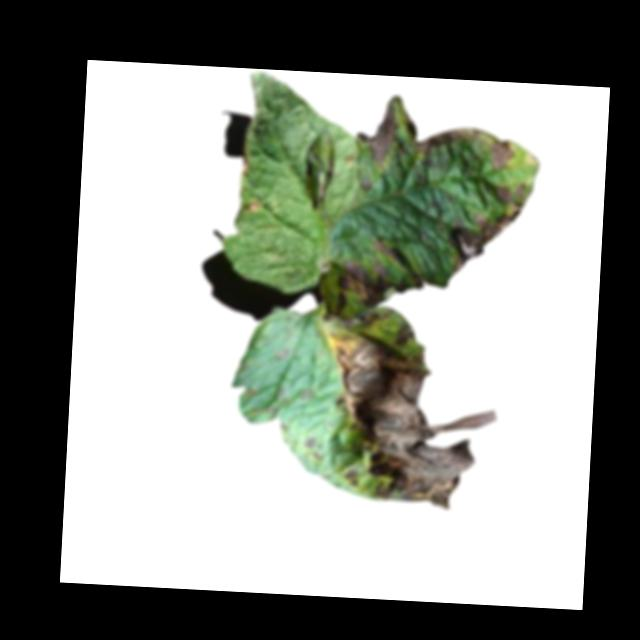Early_blight: (324, 310, 504, 511), (443, 176, 530, 277), (333, 233, 424, 312), (400, 112, 480, 160), (356, 97, 399, 167), (488, 136, 517, 173), (244, 197, 263, 213), (239, 155, 249, 174), (359, 177, 372, 191)
